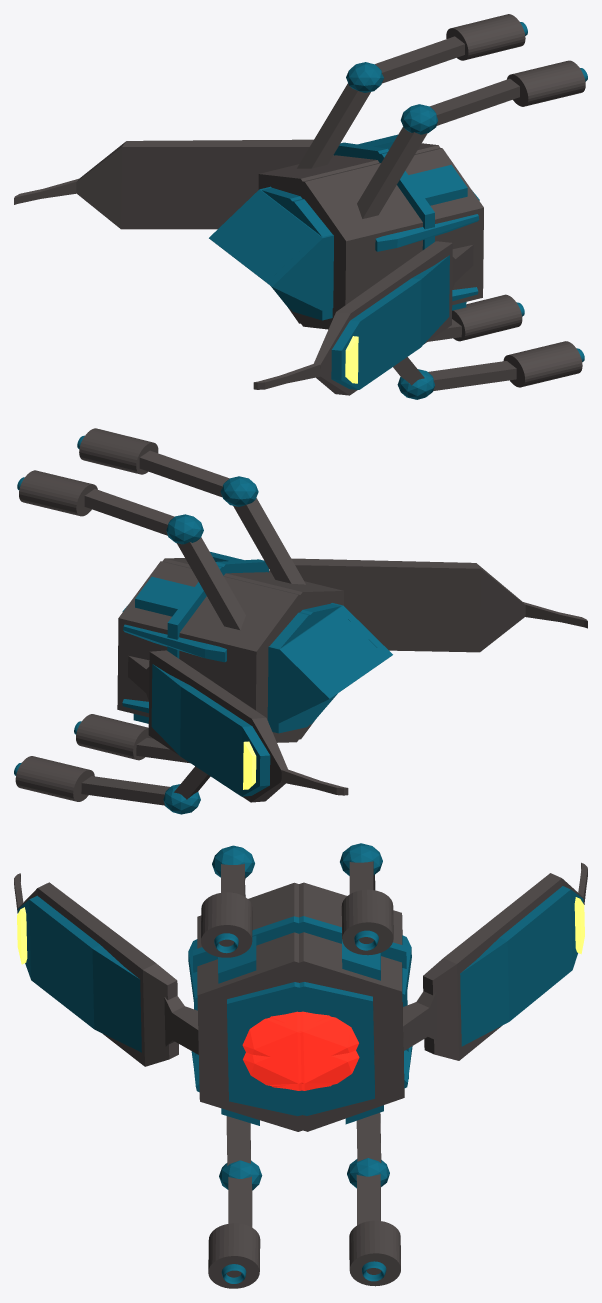
File: Gegner3.fbx
3 renders of one model, top to bottom at view 1: azimuth 30°, elevation 25°; view 2: azimuth 150°, elevation 25°; view 3: azimuth 270°, elevation 25°, orthographic. The views are drawn at different scales.
Visible parts, largest first — view 1: Cube; view 2: Cube; view 3: Cube.
Part boxes in pixels (<box>): Cube: <box>14,14,587,399</box>; Cube: <box>14,428,587,814</box>; Cube: <box>14,843,587,1288</box>.
Size of the model in its own units: 606 by 434 by 616.
